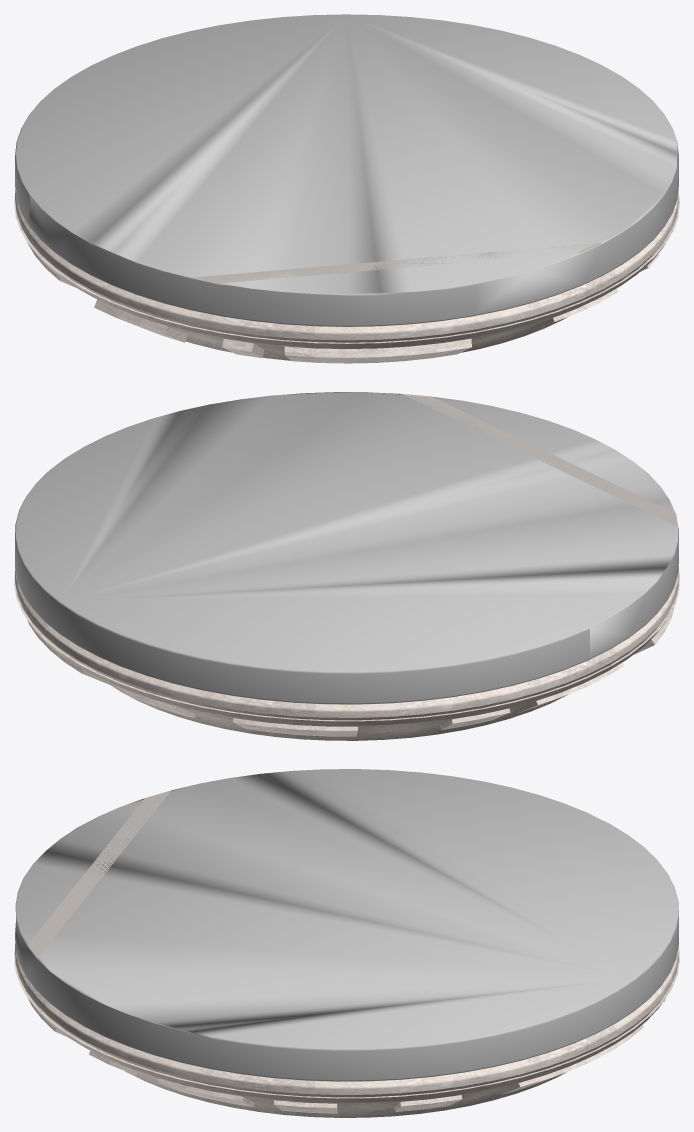
Rendered from indie.fbx.
3 renders of one model, top to bottom at view 1: azimuth 30°, elevation 25°; view 2: azimuth 150°, elevation 25°; view 3: azimuth 270°, elevation 25°, orthographic.
Visible parts, largest first — view 1: Object004; view 2: Object004; view 3: Object004.
Part boxes in pixels (x1,y1,x2,y2): Object004: [14, 14, 679, 363]; Object004: [14, 392, 679, 740]; Object004: [14, 769, 679, 1117].
Size of the model in its own units: 54.56 by 8.97 by 54.56.
